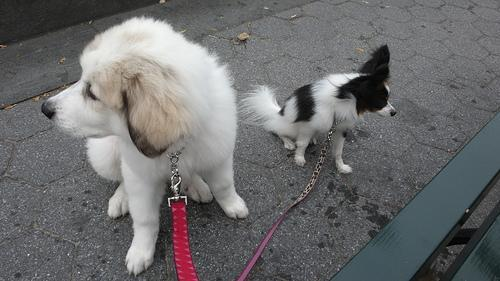Great_Pyrenees: (39, 18, 249, 274)
